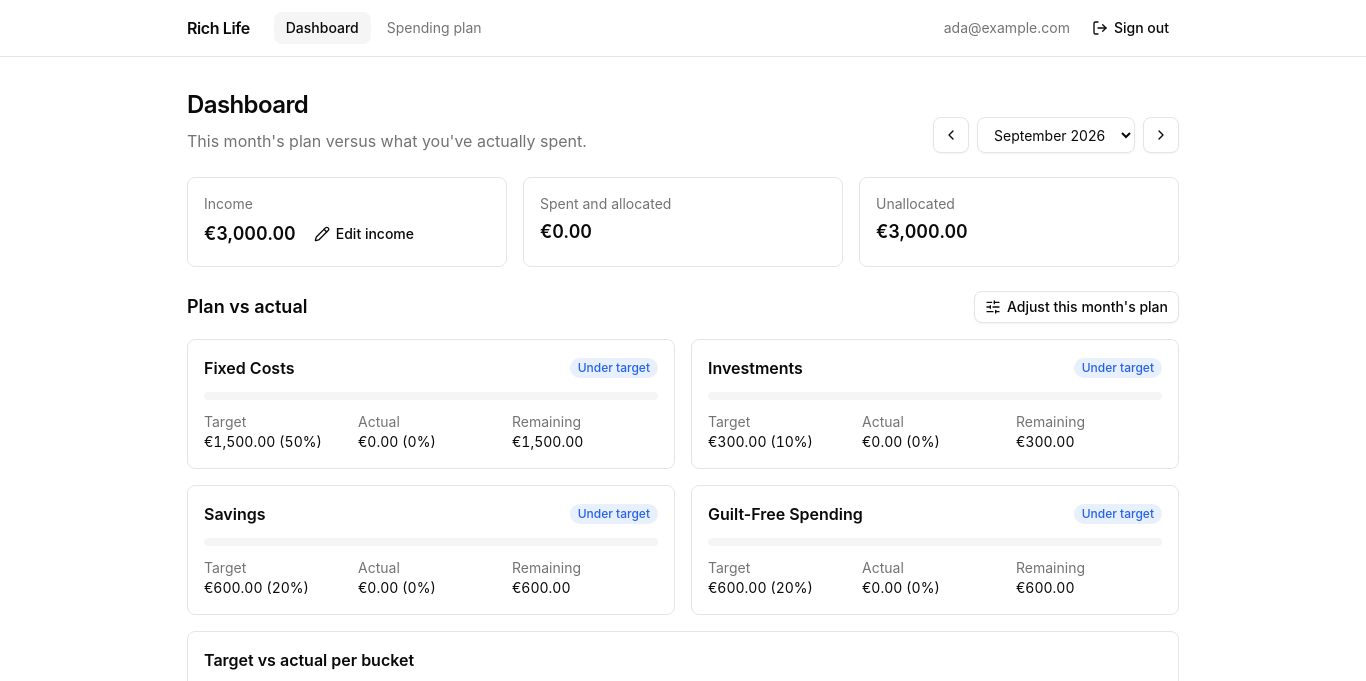
Test: MonthTargetsEditor › previews each bucket's share of the month's income
Click the button "Adjust this month's plan" at (1076, 307), box [974,291,1179,323]
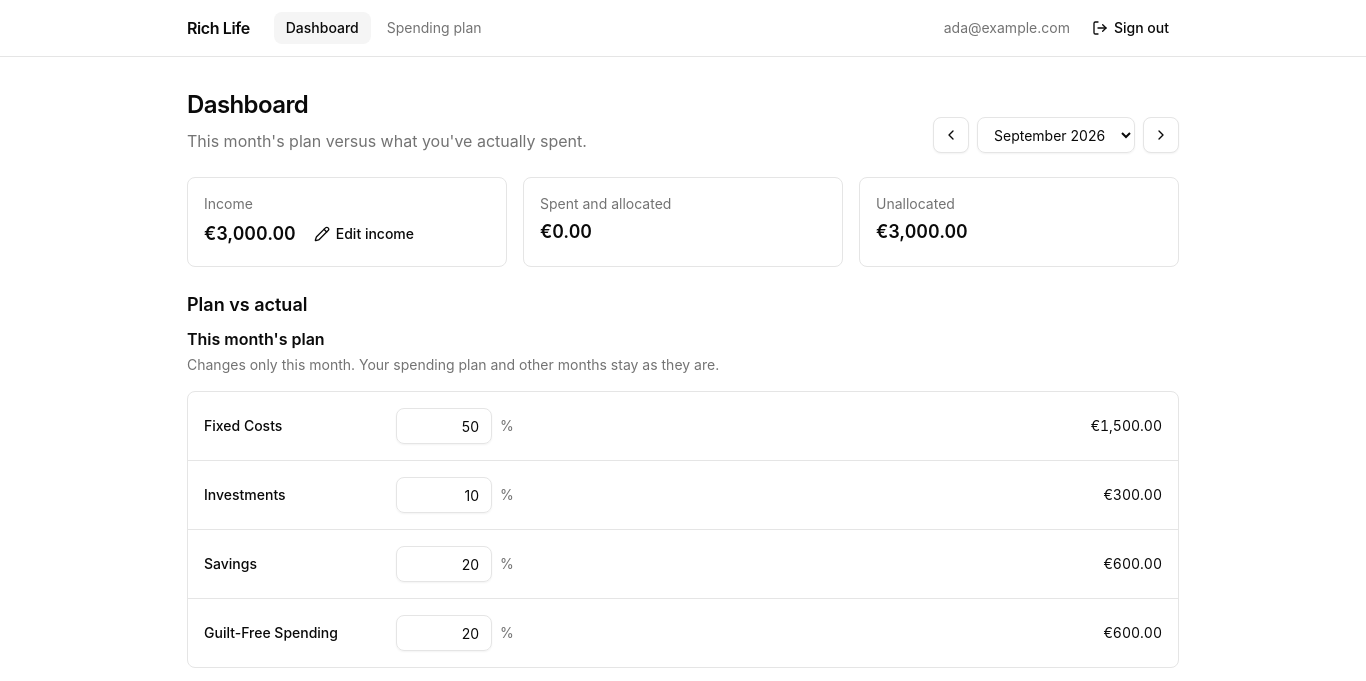
Now the text "€1,500.00" is shown, box [1091,416,1162,436]
